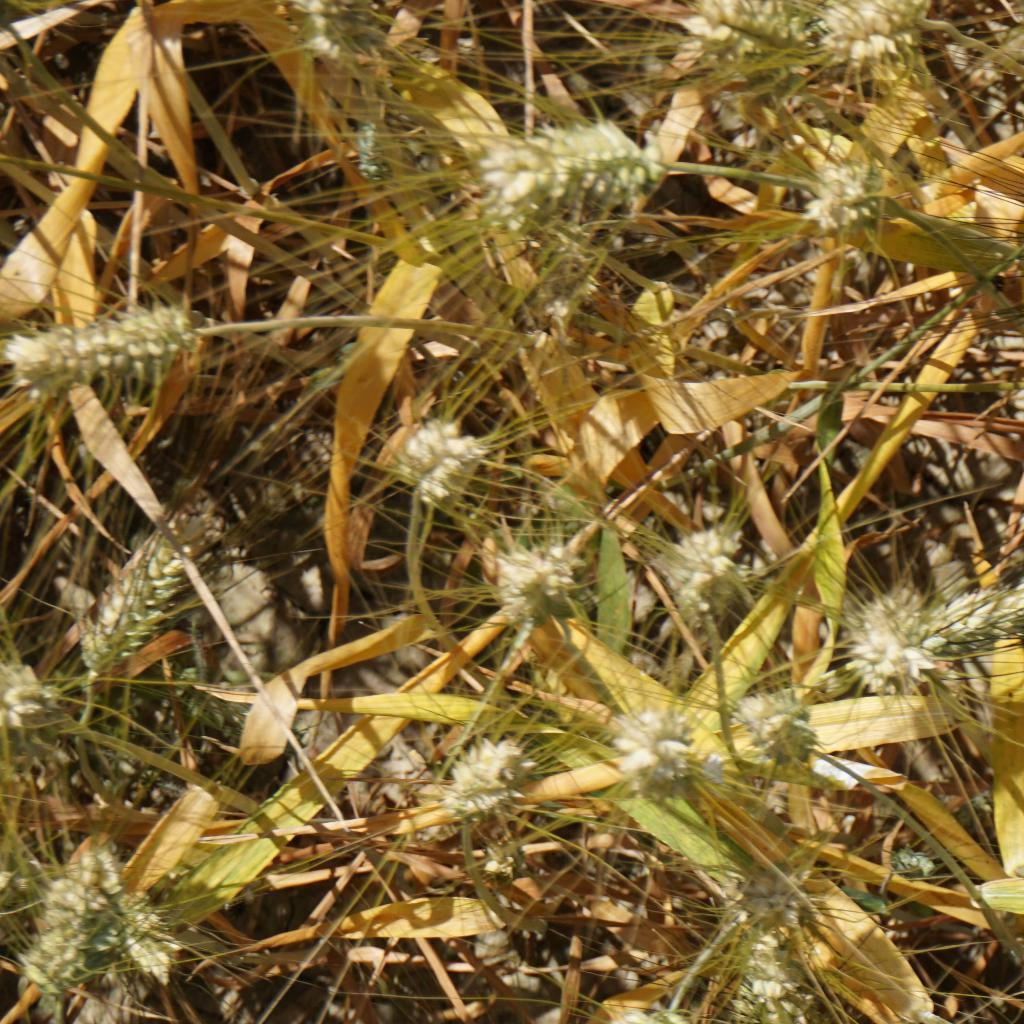0-0: (43, 528, 218, 674), (480, 110, 650, 218), (4, 305, 195, 390), (499, 189, 615, 327), (22, 859, 118, 1013), (829, 579, 926, 697), (684, 0, 826, 75), (394, 420, 501, 513), (343, 101, 445, 197), (915, 572, 1024, 660), (649, 516, 740, 611), (93, 862, 169, 974), (438, 745, 534, 829), (617, 710, 716, 788), (819, 0, 945, 61), (716, 957, 829, 1024), (733, 691, 828, 768), (722, 862, 828, 929), (805, 155, 894, 231), (297, 0, 384, 72), (495, 542, 578, 608), (0, 669, 76, 730), (891, 840, 937, 883)
